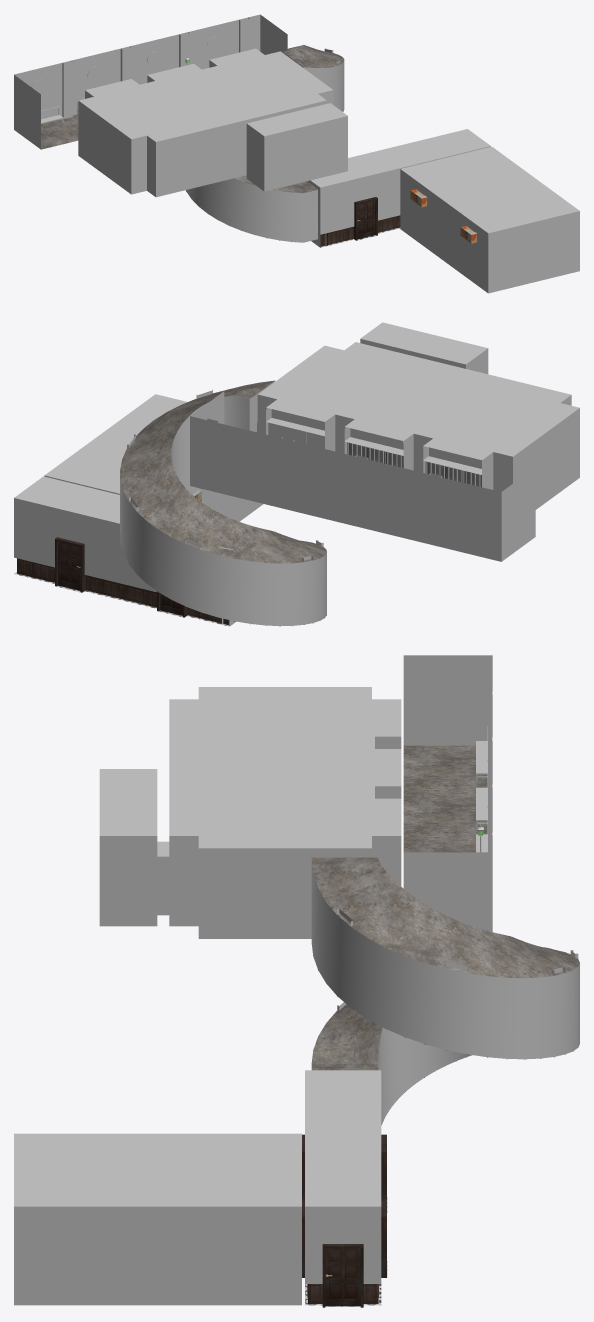
Rendered from ExportFullScene_01.FBX.
3 views of the same model, one above another, from view 1: azimuth 30°, elevation 25°; view 2: azimuth 150°, elevation 25°; view 3: azimuth 270°, elevation 25° (orthographic). The views are drawn at different scales.
Visible parts, largest first — view 1: lib_rooms, classroom_ceiling, classroom_walls_001, garden_wall, sd_stairs_walls_001, classroom_walls_002, lib_room_001, garden_floor, lib_Door_005, garden_colums_004, lib_room_down_001, garden_colums_003; view 2: sd_stairs_walls_001, garden_wall, classroom_ceiling, classroom_walls_001, lib_room_001, lib_rooms, classroom_walls_002, lib_Door_003, lib_room_down_002, classroom_window_glass_003, classroom_window_glass_002, lib_room_down_003 (+2 smaller); view 3: lib_rooms, sd_stairs_walls_001, classroom_ceiling, classroom_walls_001, lib_room_001, garden_wall, classroom_walls_002, garden_floor, lib_Door_001.
Boxes of the visible parts, bbox=[...] form: lib_rooms: bbox=[400, 146, 579, 293]; classroom_ceiling: bbox=[79, 48, 332, 141]; classroom_walls_001: bbox=[78, 53, 333, 197]; garden_wall: bbox=[14, 14, 287, 149]; sd_stairs_walls_001: bbox=[185, 45, 344, 242]; classroom_walls_002: bbox=[246, 103, 347, 191]; lib_room_001: bbox=[307, 129, 490, 247]; garden_floor: bbox=[41, 114, 78, 149]; lib_Door_005: bbox=[353, 197, 377, 240]; garden_colums_004: bbox=[62, 61, 72, 118]; lib_room_down_001: bbox=[321, 227, 353, 246]; garden_colums_003: bbox=[120, 46, 131, 81]; sd_stairs_walls_001: bbox=[120, 380, 326, 625]; garden_wall: bbox=[190, 391, 535, 561]; classroom_ceiling: bbox=[258, 342, 579, 459]; classroom_walls_001: bbox=[249, 381, 579, 509]; lib_room_001: bbox=[14, 476, 235, 626]; lib_rooms: bbox=[44, 394, 263, 521]; classroom_walls_002: bbox=[360, 322, 488, 374]; lib_Door_003: bbox=[55, 537, 85, 592]; lib_room_down_002: bbox=[85, 575, 156, 607]; classroom_window_glass_003: bbox=[269, 423, 324, 448]; classroom_window_glass_002: bbox=[427, 462, 481, 487]; lib_room_down_003: bbox=[17, 558, 54, 582]; lib_rooms: bbox=[14, 1133, 301, 1305]; sd_stairs_walls_001: bbox=[311, 857, 579, 1125]; classroom_ceiling: bbox=[169, 687, 401, 848]; classroom_walls_001: bbox=[169, 736, 401, 938]; lib_room_001: bbox=[305, 1070, 387, 1306]; garden_wall: bbox=[403, 655, 492, 931]; classroom_walls_002: bbox=[99, 769, 169, 926]; garden_floor: bbox=[403, 745, 487, 852]; lib_Door_001: bbox=[322, 1244, 363, 1307].
Bounding box in the file's own units: 1360 × 963 × 591.
